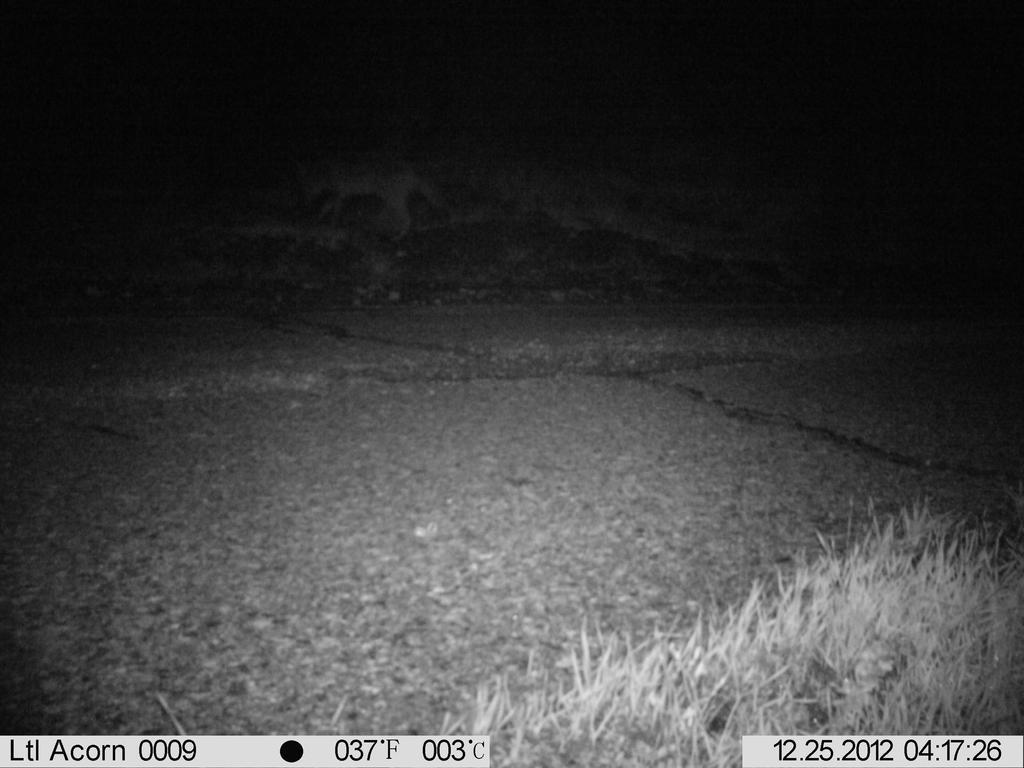coyote: (277, 144, 481, 253)
